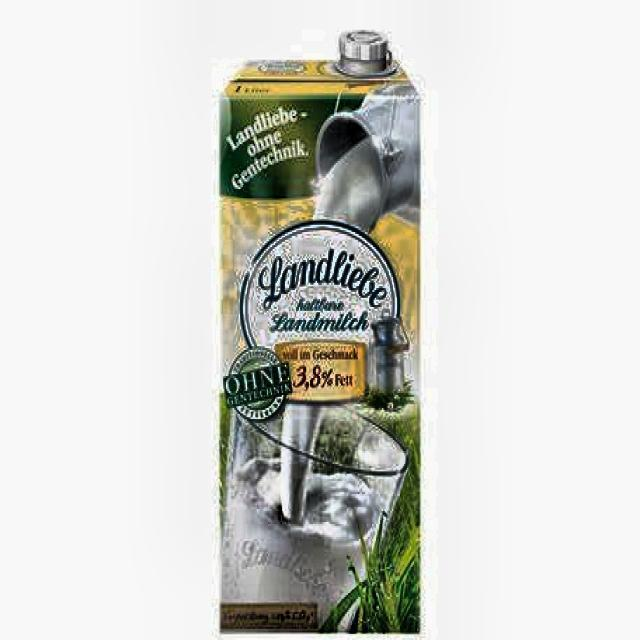cardboard: (216, 32, 421, 632)
